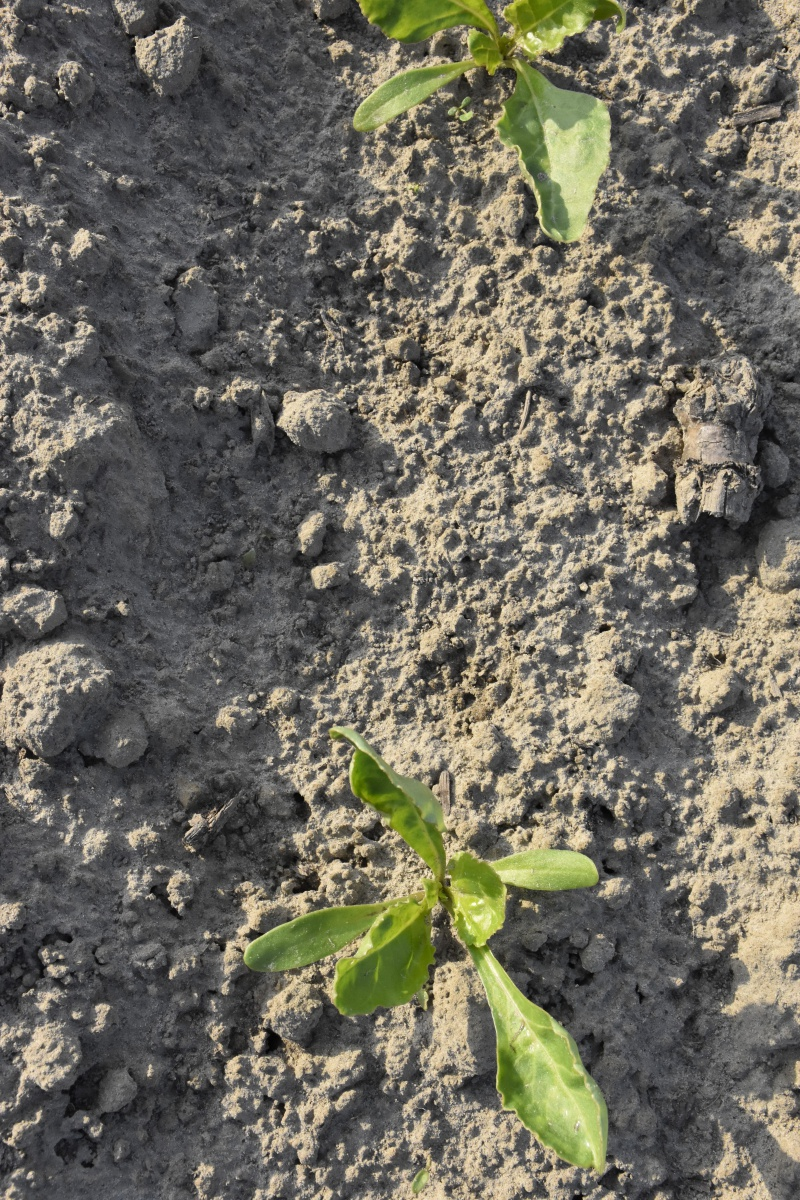sugar beet: (246, 724, 630, 1178), (346, 1, 630, 255)
